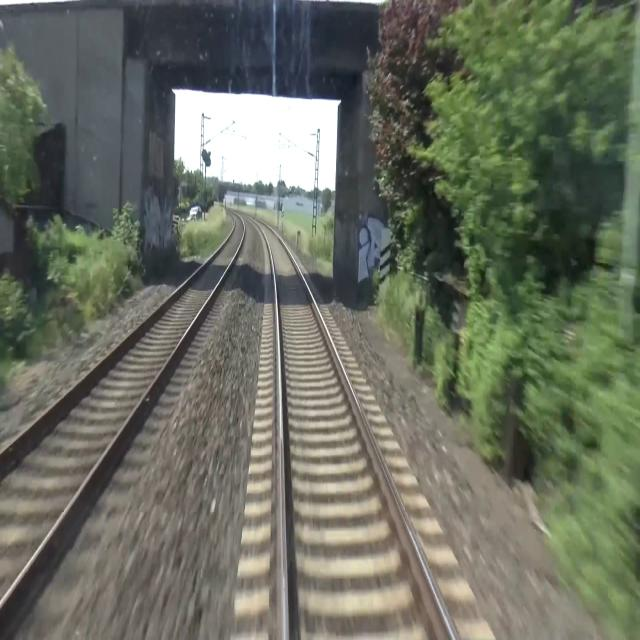rail-track: (0, 210, 244, 600), (234, 209, 453, 639)
